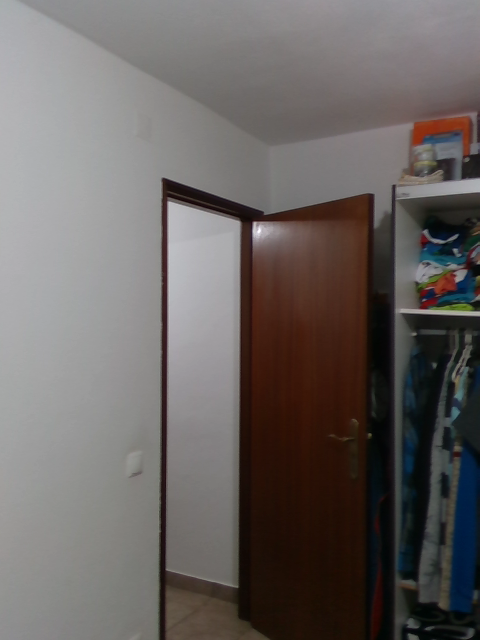open: (156, 182, 368, 639)
